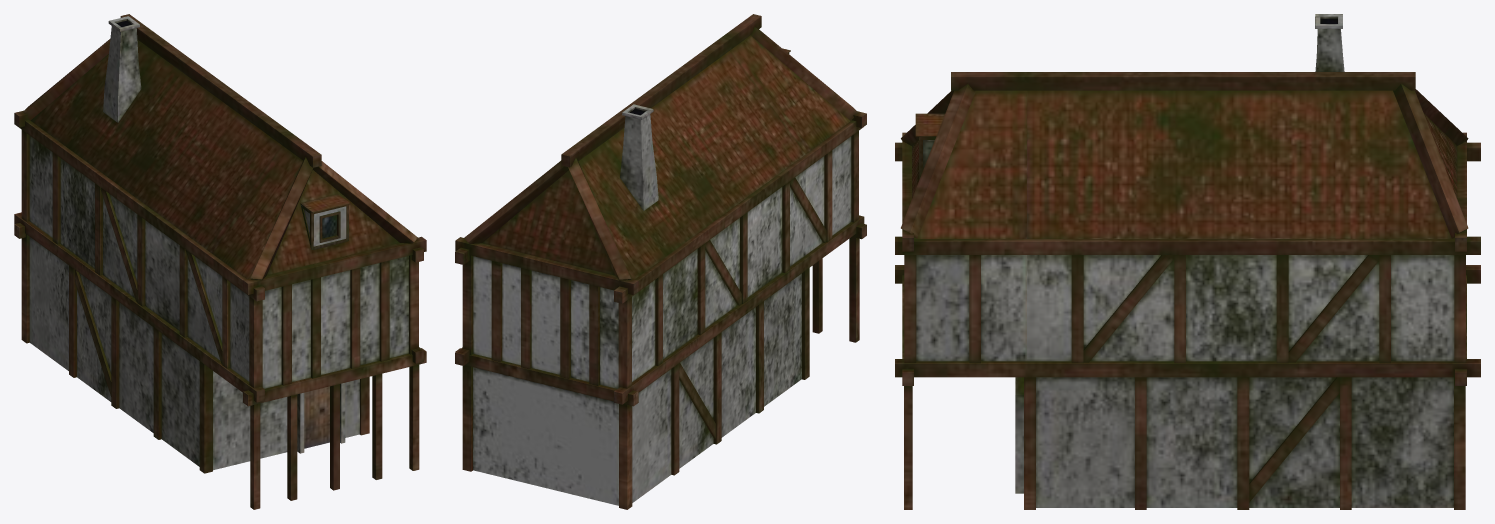
Rendered from casa_taipa.glb.
3 views of the same model, side by side, from view 1: azimuth 30°, elevation 25°; view 2: azimuth 150°, elevation 25°; view 3: azimuth 270°, elevation 25° (orthographic). The views are drawn at different scales.
Visible parts, largest first — view 1: House2; view 2: House2; view 3: House2.
Boxes of the visible parts, x1,y1,x2,y2 form: House2: [14, 14, 426, 509]; House2: [455, 14, 866, 509]; House2: [895, 14, 1480, 509].
Bounding box in the file's own units: 4.2 × 7.8 × 9.87.
Materials: 1 (1 with a texture image).
